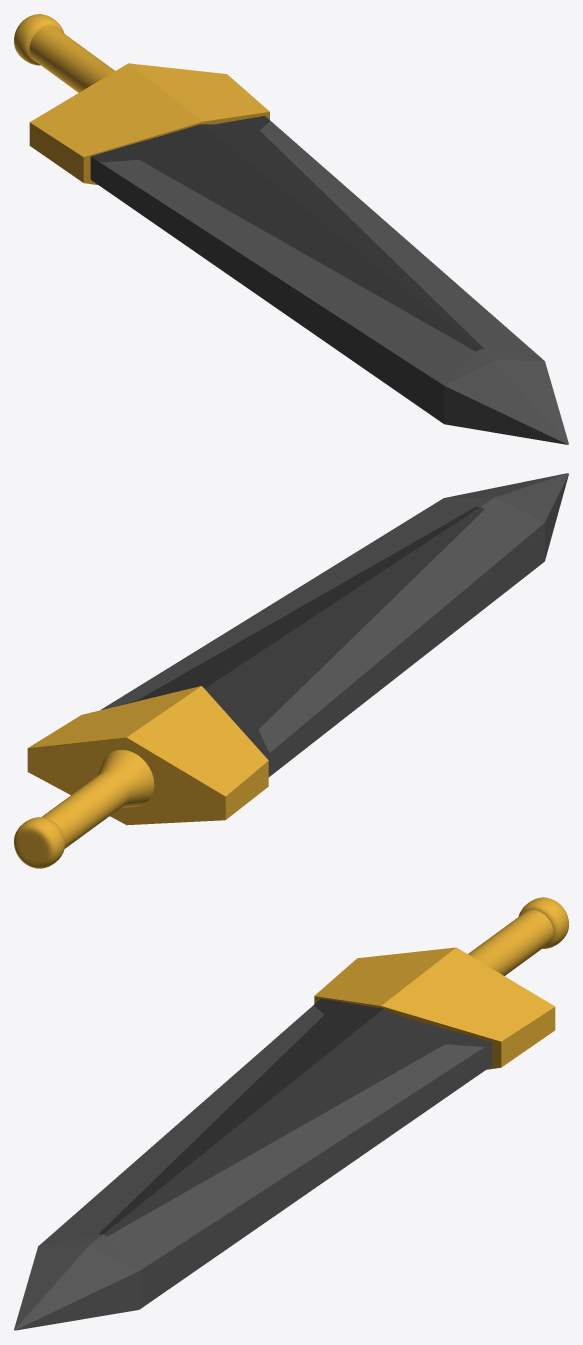
The model's file is GreekSword.fbx.
The picture shows the model from 3 angles, top to bottom: view 1: azimuth 30°, elevation 25°; view 2: azimuth 150°, elevation 25°; view 3: azimuth 330°, elevation 25°; orthographic projection.
Visible parts, largest first — view 1: 立方体, 立方体.001, 柱体, 柱体.001; view 2: 立方体, 立方体.001, 柱体, 柱体.001; view 3: 立方体, 立方体.001, 柱体, 柱体.001.
Boxes of the visible parts, <box> form: 立方体: <box>90,116,568,444</box>; 立方体.001: <box>29,63,269,185</box>; 柱体: <box>29,26,114,92</box>; 柱体.001: <box>14,14,64,65</box>; 立方体: <box>100,473,568,777</box>; 立方体.001: <box>27,686,268,825</box>; 柱体: <box>41,749,154,848</box>; 柱体.001: <box>14,817,64,868</box>; 立方体: <box>14,998,493,1330</box>; 立方体.001: <box>314,947,555,1069</box>; 柱体: <box>468,910,553,975</box>; 柱体.001: <box>518,897,568,948</box>.
Bounding box in the file's own units: 152 × 66.94 × 714.
